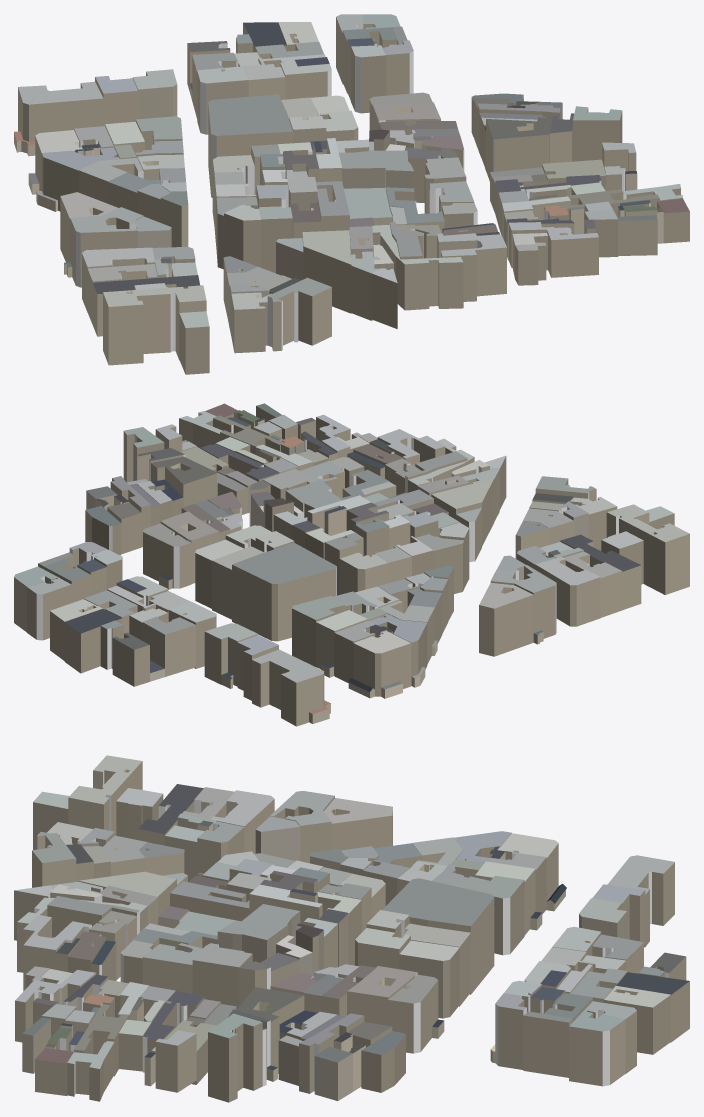
The picture shows the model from 3 angles, top to bottom: view 1: azimuth 30°, elevation 25°; view 2: azimuth 150°, elevation 25°; view 3: azimuth 270°, elevation 25°; orthographic projection. The views are drawn at different scales.
Parts seen in each view (by area): view 1: tuile; view 2: tuile; view 3: tuile.
Part boxes in pixels (box(x1,y1,x2,y2)): tuile: box(14, 14, 689, 374); tuile: box(14, 403, 689, 726); tuile: box(14, 755, 689, 1102).
Bounding box in the file's own units: 278 × 38.52 × 264.
